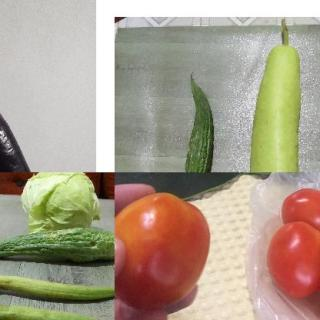Tomat: (116, 181, 212, 310), (264, 188, 320, 297)
